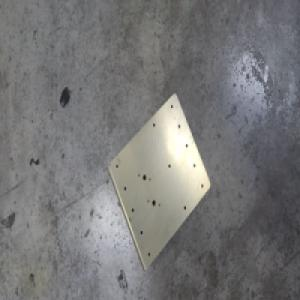MetalSheet: (106, 91, 212, 273)
